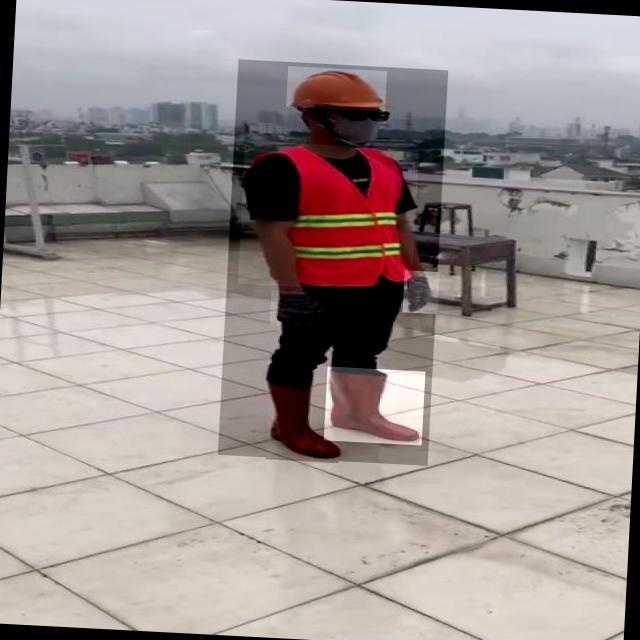Gloves: (270, 291, 329, 329), (403, 271, 440, 315)
Helmet: (286, 66, 387, 112)
Human: (218, 60, 448, 466)
Safety Boot: (324, 367, 426, 446), (266, 375, 343, 464)
Safety Vest: (239, 141, 420, 293)
